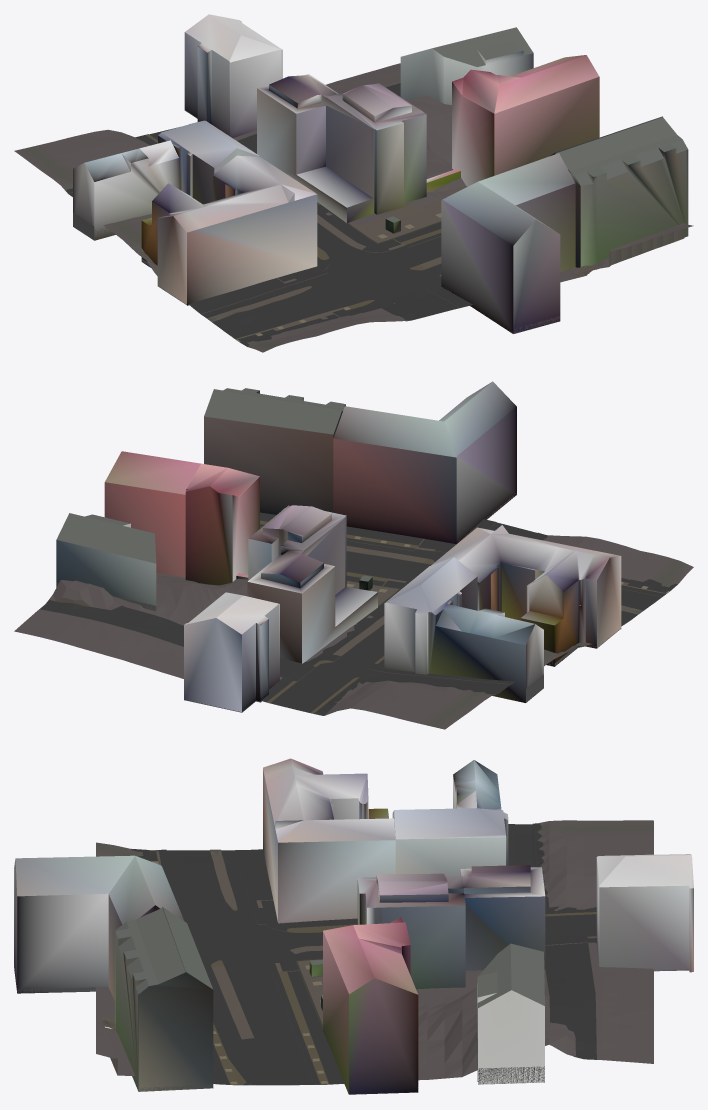
The picture shows the model from 3 angles, top to bottom: view 1: azimuth 30°, elevation 25°; view 2: azimuth 150°, elevation 25°; view 3: azimuth 270°, elevation 25°; orthographic projection. The views are drawn at different scales.
Visible parts, largest first — view 1: c_p00_m16; view 2: c_p00_m16; view 3: c_p00_m16.
Part boxes in pixels (left/top/right/bottom): c_p00_m16: left=14, top=14, right=693, bottom=352; c_p00_m16: left=14, top=381, right=693, bottom=729; c_p00_m16: left=14, top=758, right=693, bottom=1094.
Bounding box in the file's own units: 137 × 30.97 × 156.
